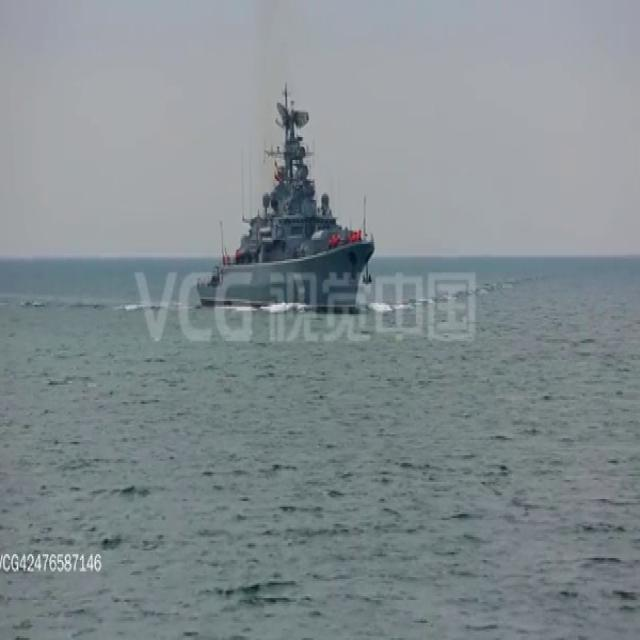navalvessels: (196, 79, 375, 317)
